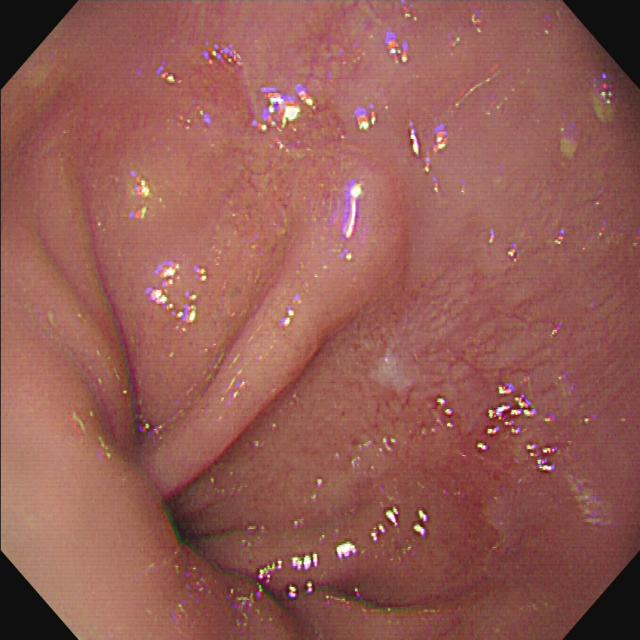I: (44, 54, 517, 629)
U: (256, 507, 430, 600), (477, 384, 560, 475), (148, 263, 209, 324), (252, 84, 318, 133), (129, 172, 151, 222), (345, 182, 363, 239)
